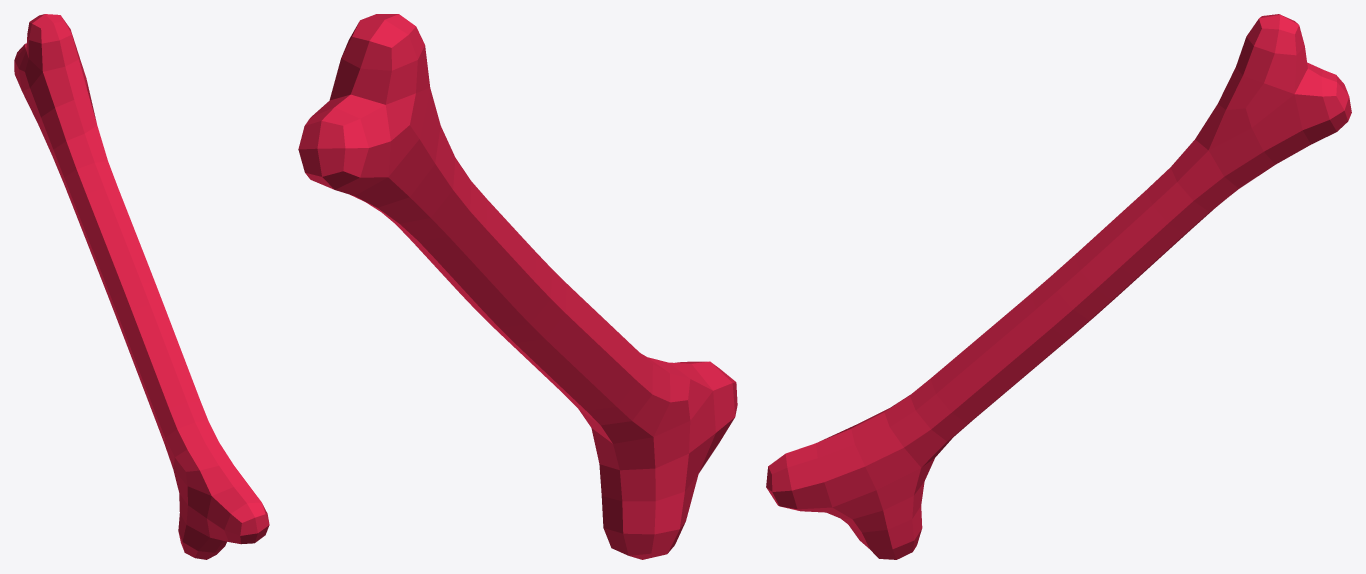
The model's file is bone.fbx.
The picture shows the model from 3 angles, left to right: view 1: azimuth 30°, elevation 25°; view 2: azimuth 150°, elevation 25°; view 3: azimuth 270°, elevation 25°; orthographic projection. The views are drawn at different scales.
Parts seen in each view (by area): view 1: Plane; view 2: Plane; view 3: Plane.
Boxes of the visible parts, x1,y1,x2,y2 form: Plane: (14,14,269,559); Plane: (298,14,737,559); Plane: (766,14,1351,559).
Size of the model in its own units: 0.5179 by 4.36 by 4.29.
